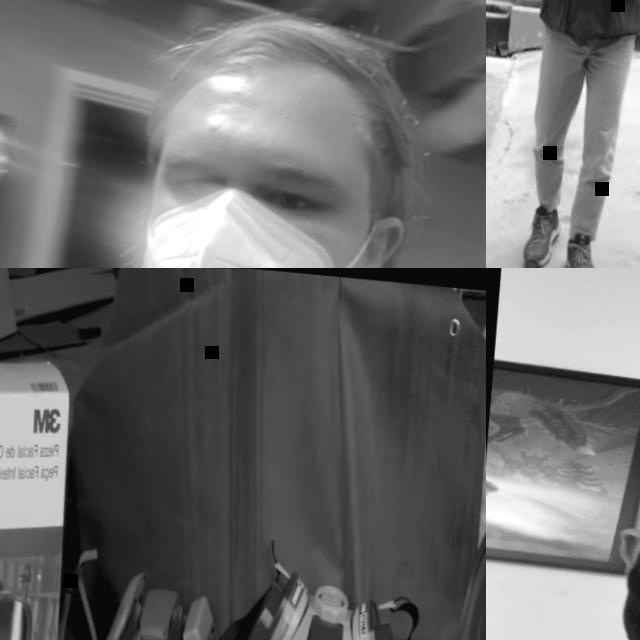Mask: (231, 562, 411, 640), (82, 562, 241, 640)
NO-Hardhat: (156, 2, 418, 142)
NO-Mask: (132, 188, 385, 268)
Person: (0, 0, 486, 268), (486, 361, 640, 640), (486, 0, 640, 268)
